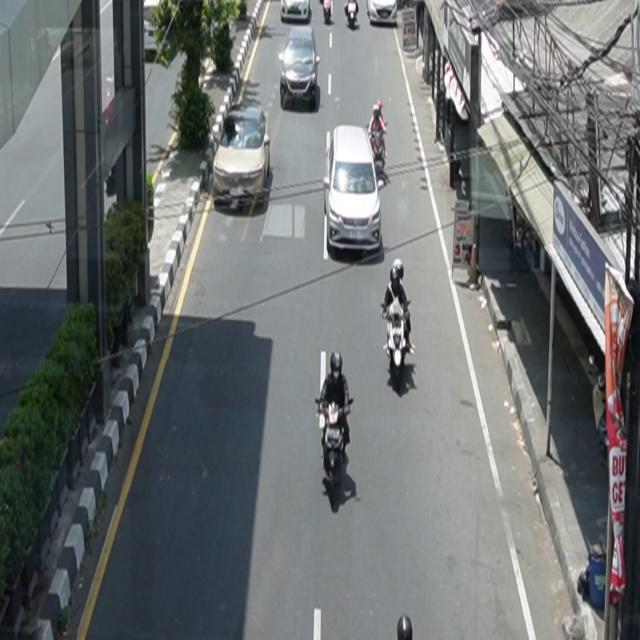car: (324, 125, 382, 255), (213, 104, 271, 209), (280, 26, 322, 109), (367, 1, 398, 26), (281, 1, 312, 24)
